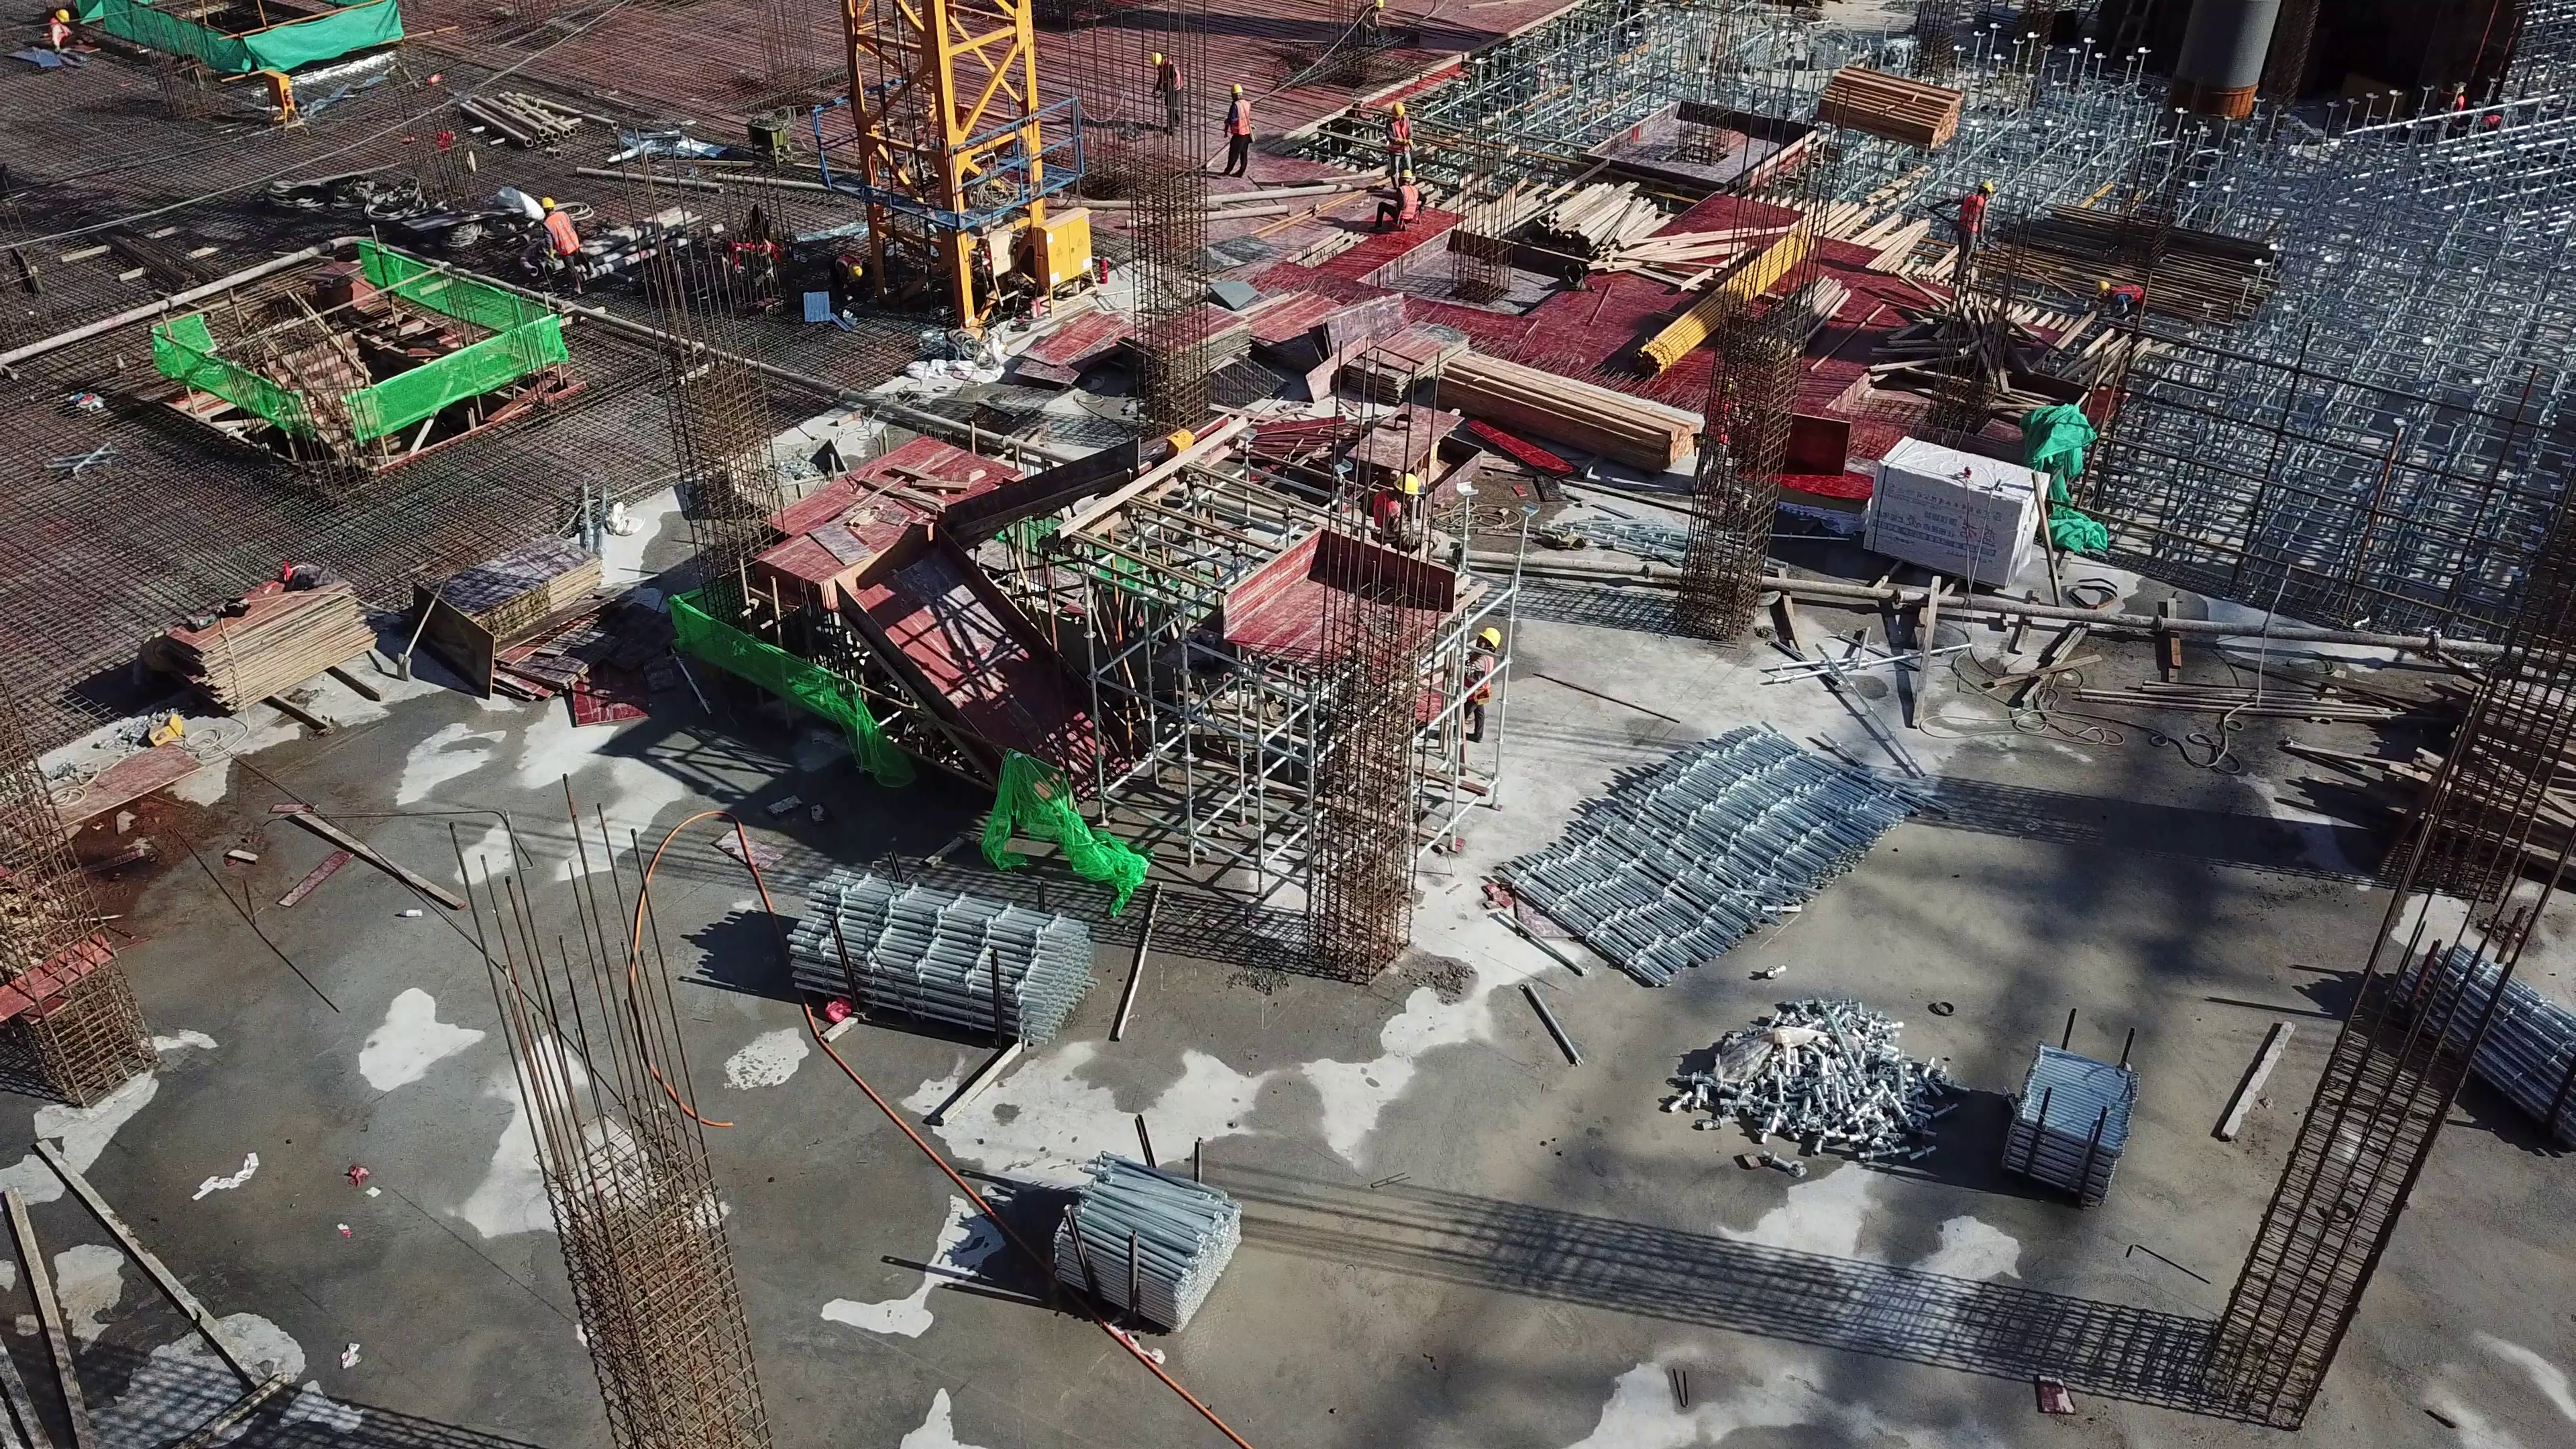board: (417, 523, 606, 701), (178, 561, 370, 727)
person: (1948, 182, 1998, 290), (2100, 266, 2149, 366), (1383, 103, 1420, 208), (1464, 619, 1505, 718), (1219, 74, 1254, 182), (1359, 474, 1420, 535), (533, 197, 578, 278)
scaffold: (1481, 710, 1948, 998), (779, 861, 1120, 1069), (2385, 946, 2575, 1156), (1035, 1156, 1248, 1331), (2000, 1036, 2132, 1212)
wood: (1435, 357, 1706, 488), (1508, 179, 1706, 264)
